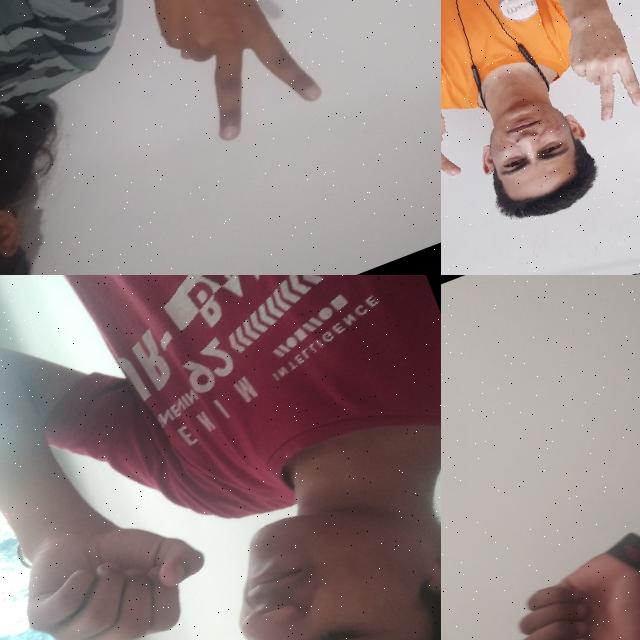Fist Mouth: (0, 356, 441, 640)
Reversed Victory: (109, 0, 341, 160), (544, 0, 640, 136), (441, 67, 476, 208)
Thumbs Up: (479, 514, 640, 640)
